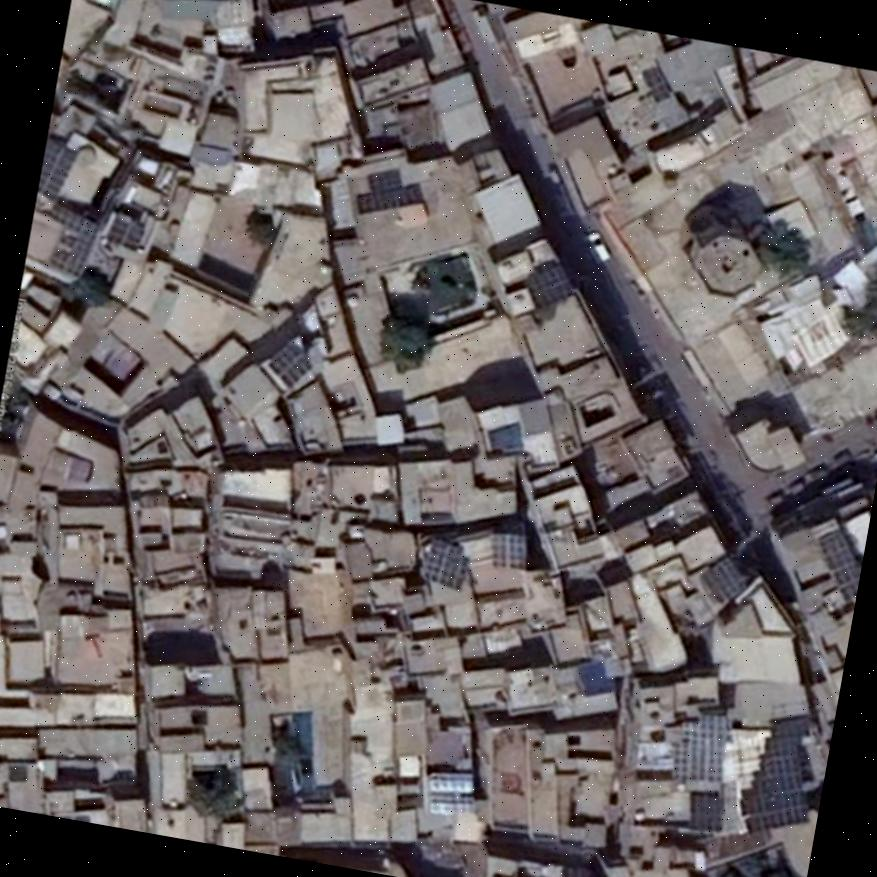Solarpanel: (736, 715, 809, 834), (674, 713, 727, 782), (50, 214, 97, 276), (819, 529, 860, 600), (39, 136, 77, 199), (267, 343, 311, 389), (424, 540, 464, 589), (527, 264, 570, 309), (704, 557, 745, 600), (492, 533, 526, 570), (692, 791, 720, 834)
